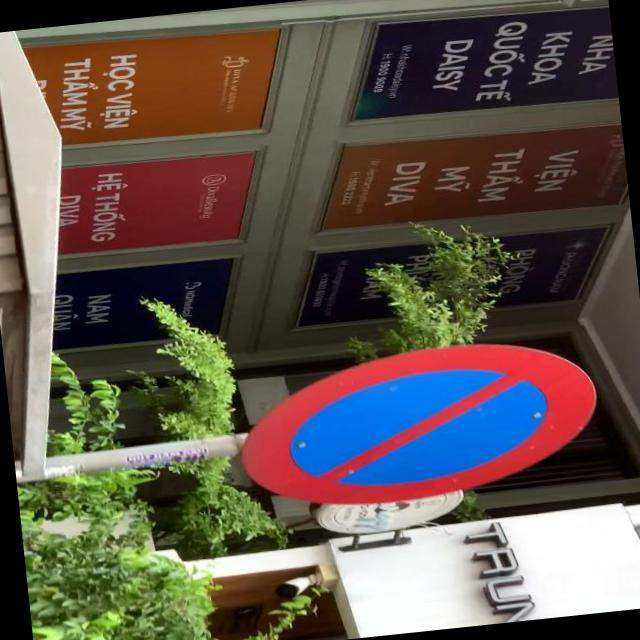P-131a: (232, 330, 606, 516)
